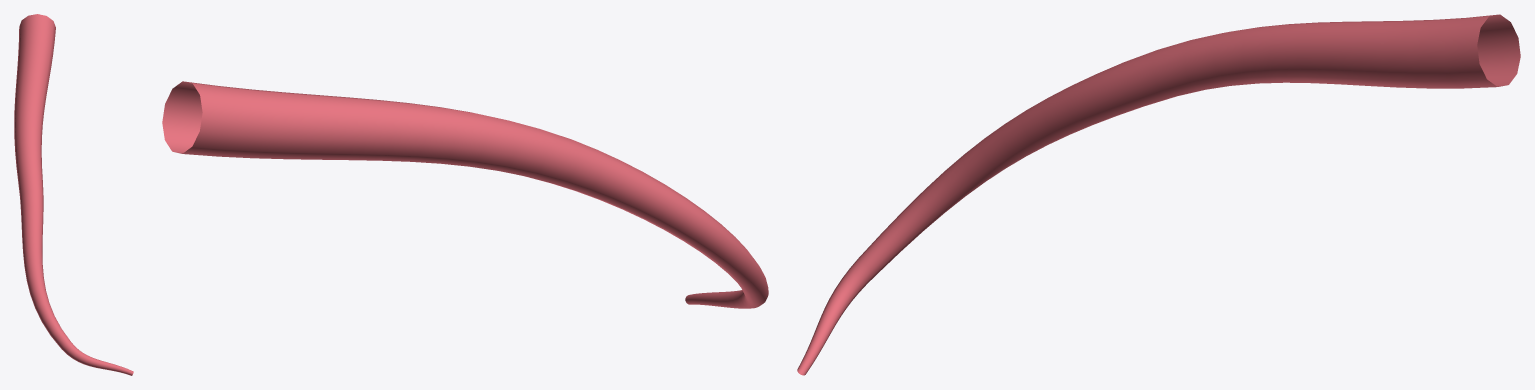
The picture shows the model from 3 angles, left to right: view 1: azimuth 30°, elevation 25°; view 2: azimuth 150°, elevation 25°; view 3: azimuth 270°, elevation 25°; orthographic projection. The views are drawn at different scales.
Parts seen in each view (by area): view 1: ZA_b10b5d1fa14761d4; view 2: ZA_b10b5d1fa14761d4; view 3: ZA_b10b5d1fa14761d4.
Boxes of the visible parts, bbox=[...] form: ZA_b10b5d1fa14761d4: bbox=[14, 14, 133, 375]; ZA_b10b5d1fa14761d4: bbox=[162, 81, 768, 308]; ZA_b10b5d1fa14761d4: bbox=[797, 14, 1520, 375].
Bounding box in the file's own units: 0.0147 × 0.0195 × 0.0294.
